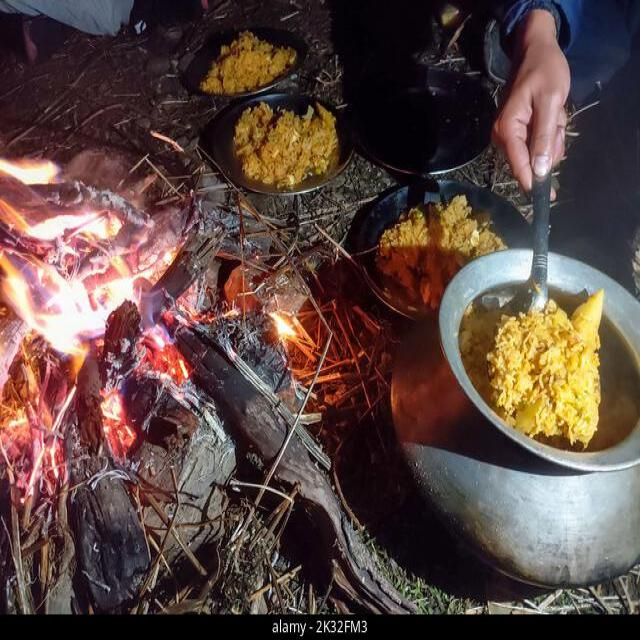fire: (0, 155, 153, 376)
